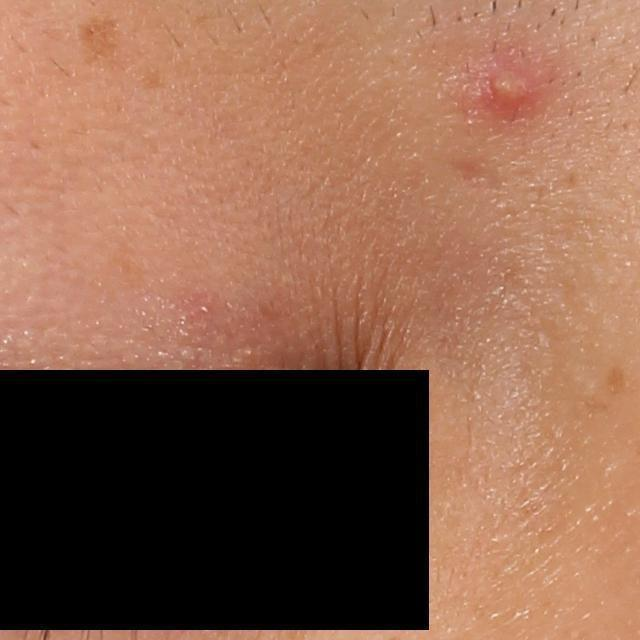melasma: (73, 10, 125, 71)
